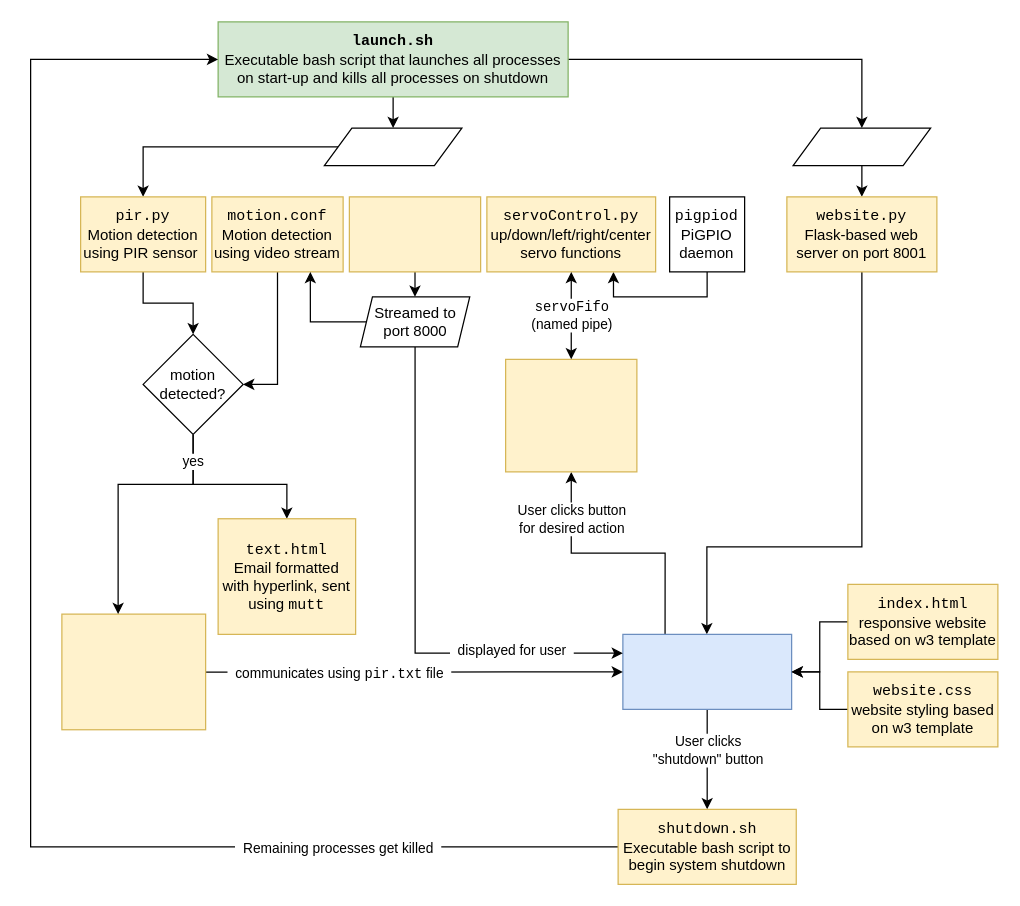
Some shapes in this 1020 by 906 pixel diagram are drawn without their labels. The centre of each missing label's shape, as x and y in pixels:
"Background processes" belongs at point (392, 146).
"Foreground processes" belongs at point (861, 146).
"pir.js client-side function to asynchronously update motion detection status" belongs at point (133, 671).
"servoUp.py servoDown.py servoLeft.py servoRight.py servoCenter.py" belongs at point (570, 415).
"User Interface ece5725.ddns.net:8001" belongs at point (707, 671).
"webStream.py 640x480 @ 60fps video from camera" belongs at point (414, 234).
